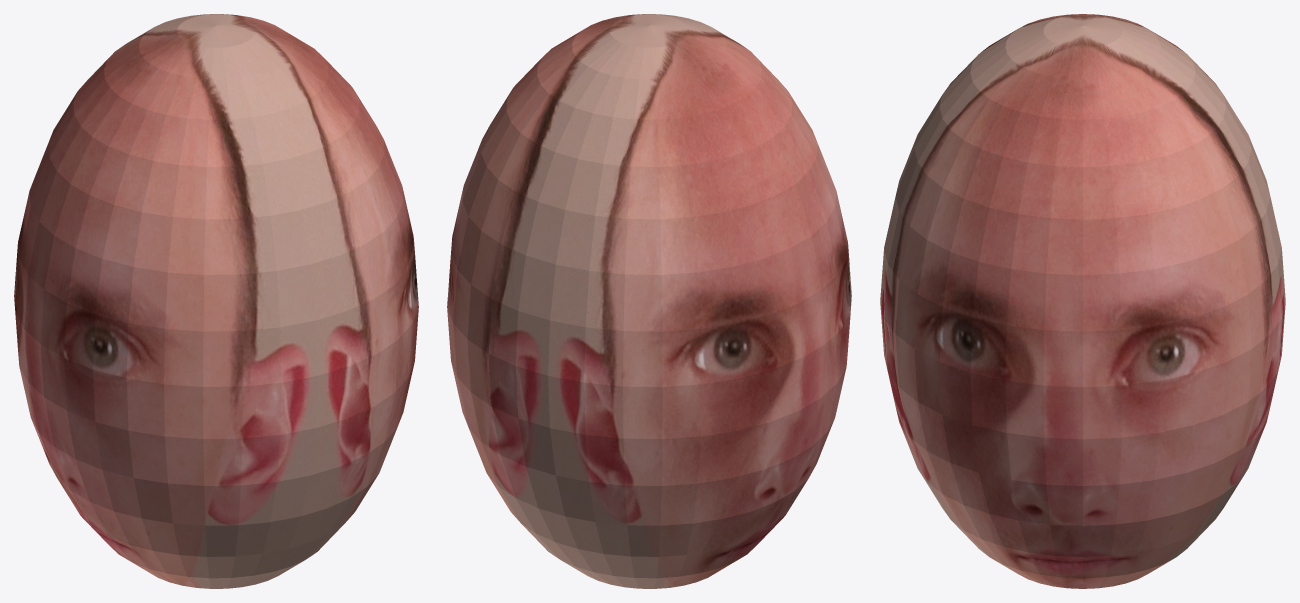
File: Belysh.glb
3 views of the same model, side by side, from view 1: azimuth 30°, elevation 25°; view 2: azimuth 150°, elevation 25°; view 3: azimuth 270°, elevation 25° (orthographic).
Visible parts, largest first — view 1: Sphere; view 2: Sphere; view 3: Sphere.
Boxes of the visible parts, x1,y1,x2,y2 form: Sphere: [14, 14, 418, 588]; Sphere: [447, 14, 851, 588]; Sphere: [880, 14, 1285, 588].
Bounding box in the file's own units: 2 × 3 × 2.
1 material, 1 textured.
